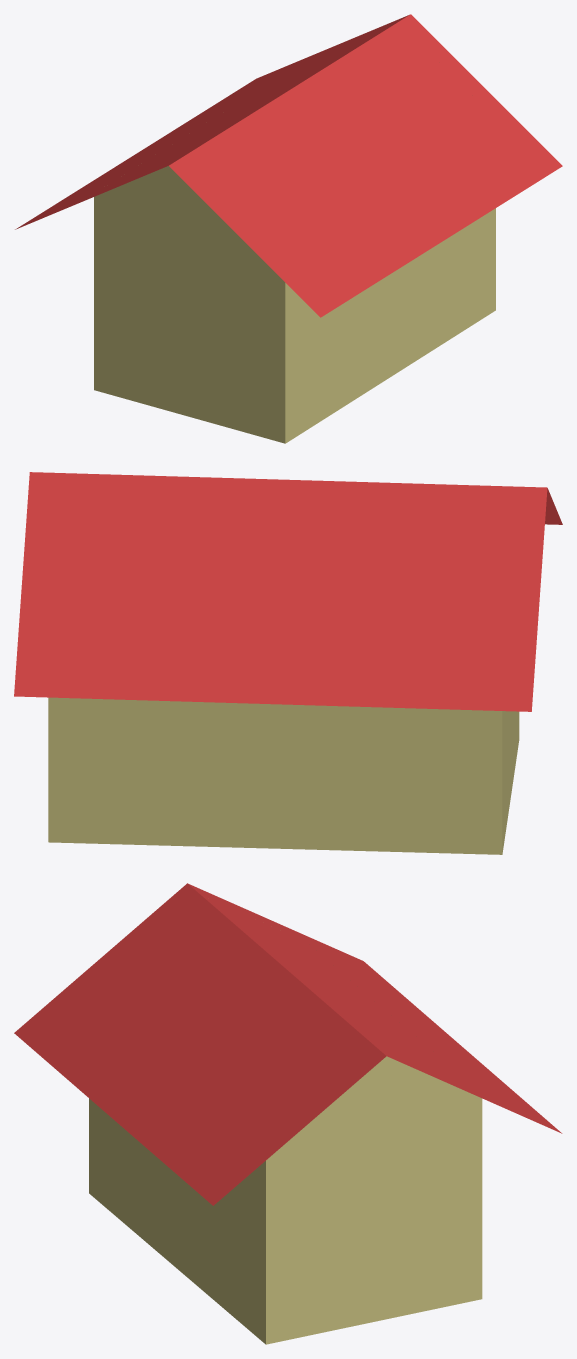
The picture shows the model from 3 angles, top to bottom: view 1: azimuth 30°, elevation 25°; view 2: azimuth 150°, elevation 25°; view 3: azimuth 270°, elevation 25°; orthographic projection. The views are drawn at different scales.
Bounding box in the file's own units: 21.89 × 20.73 × 11.43.
